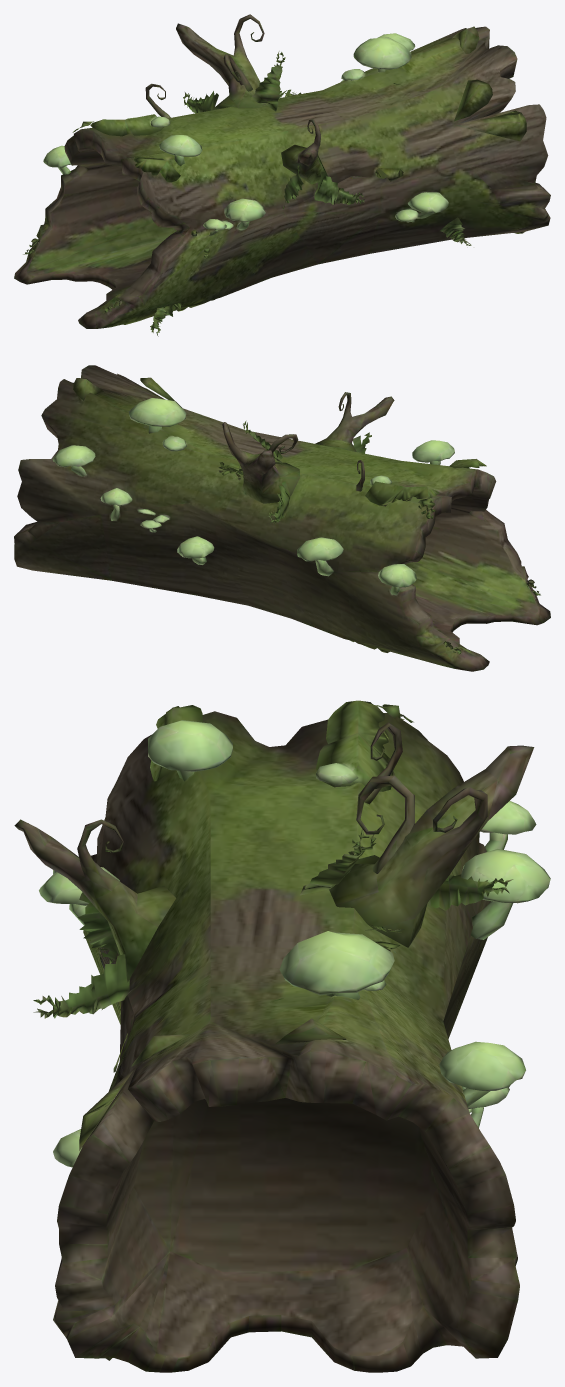
Rendered from q_mok.glb.
The picture shows the model from 3 angles, top to bottom: view 1: azimuth 30°, elevation 25°; view 2: azimuth 150°, elevation 25°; view 3: azimuth 270°, elevation 25°; orthographic projection. The views are drawn at different scales.
Visible parts, largest first — view 1: tripo_node_7bb0bf4b-03cc-44ac-b83e-ae19d9104dc4; view 2: tripo_node_7bb0bf4b-03cc-44ac-b83e-ae19d9104dc4; view 3: tripo_node_7bb0bf4b-03cc-44ac-b83e-ae19d9104dc4.
Boxes of the visible parts, <box> form: tripo_node_7bb0bf4b-03cc-44ac-b83e-ae19d9104dc4: <box>14,14,550,336</box>; tripo_node_7bb0bf4b-03cc-44ac-b83e-ae19d9104dc4: <box>14,365,550,671</box>; tripo_node_7bb0bf4b-03cc-44ac-b83e-ae19d9104dc4: <box>14,700,550,1372</box>.
Size of the model in its own units: 0.998 by 0.4356 by 0.5176.
1 material, 1 textured.
